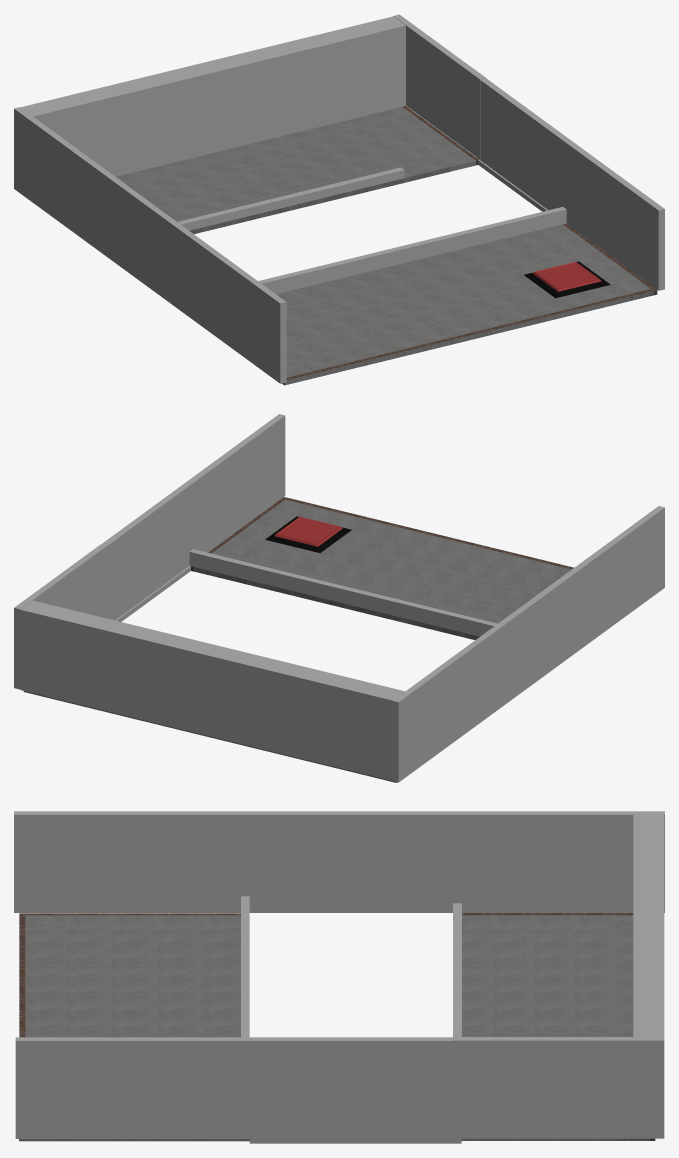
File: sala5.fbx
3 views of the same model, one above another, from view 1: azimuth 30°, elevation 25°; view 2: azimuth 150°, elevation 25°; view 3: azimuth 270°, elevation 25° (orthographic). The views are drawn at different scales.
Visible parts, largest first — view 1: pared100, polySurface509, pared98, polySurface8, pared97, puerta_oculta, pared99, pared101, boton_rojo, base; view 2: pared100, pared98, polySurface509, pared97, pared99, puerta_oculta, boton_rojo, polySurface8, base; view 3: pared98, pared97, polySurface509, polySurface8, puerta_oculta, pared100, pared99, pared101, pasillo_oculto.
Part boxes in pixels (x1,y1,x2,y2): pared100: [21, 16, 405, 176]; polySurface509: [276, 223, 657, 385]; pared98: [14, 107, 286, 383]; polySurface8: [116, 106, 479, 234]; pared97: [480, 78, 664, 290]; puerta_oculta: [393, 14, 485, 159]; pared99: [258, 207, 566, 294]; pared101: [177, 167, 404, 230]; boton_rojo: [533, 261, 601, 291]; base: [524, 261, 610, 298]; pared100: [20, 600, 404, 780]; pared98: [392, 506, 664, 782]; polySurface509: [191, 497, 573, 639]; pared97: [101, 414, 285, 620]; pared99: [189, 549, 497, 636]; puerta_oculta: [14, 544, 106, 689]; boton_rojo: [274, 516, 342, 546]; polySurface8: [23, 691, 396, 782]; base: [265, 516, 351, 552]; pared98: [14, 811, 664, 912]; pared97: [15, 1037, 452, 1138]; polySurface509: [19, 913, 249, 1141]; polySurface8: [461, 913, 655, 1140]; puerta_oculta: [452, 1037, 664, 1138]; pared100: [633, 815, 664, 1036]; pared99: [241, 896, 249, 1037]; pared101: [453, 903, 461, 1036]; pasillo_oculto: [249, 1138, 461, 1143].
Size of the model in its own units: 0.4052 by 0.0858 by 0.4854.
